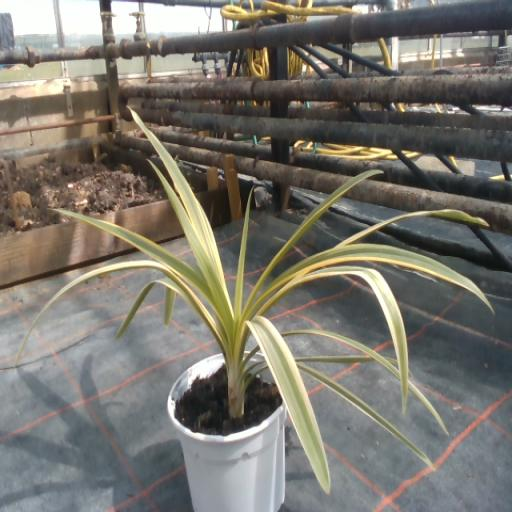Agapanthus-praecox: (257, 266, 408, 412), (129, 109, 232, 313), (17, 260, 220, 359), (243, 172, 370, 314), (253, 243, 491, 308), (247, 317, 330, 491), (299, 363, 434, 468), (151, 161, 232, 332), (64, 212, 209, 293), (116, 278, 217, 338), (282, 330, 399, 380), (235, 191, 251, 322), (408, 381, 447, 432), (296, 356, 375, 363), (385, 357, 397, 365)
